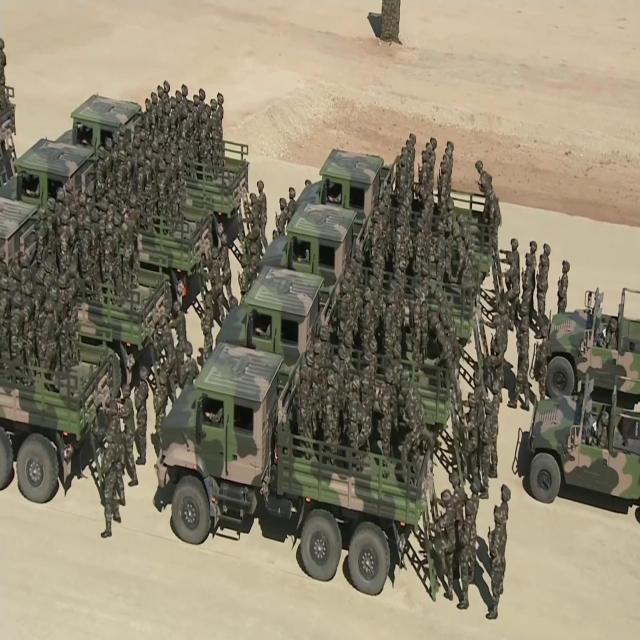Soldier: (428, 308, 458, 415), (120, 383, 145, 483), (98, 422, 119, 540), (483, 507, 503, 622), (515, 300, 535, 409), (438, 488, 457, 602), (398, 377, 417, 483), (135, 360, 154, 460), (68, 264, 86, 366), (458, 499, 474, 611), (118, 205, 136, 289), (361, 346, 374, 456), (345, 373, 361, 461), (490, 376, 504, 474), (554, 256, 576, 316), (196, 288, 213, 363), (434, 282, 458, 334), (465, 389, 477, 492), (41, 299, 56, 381), (358, 284, 376, 352), (10, 289, 24, 376), (380, 365, 392, 466), (298, 360, 310, 461), (480, 398, 492, 498), (156, 368, 170, 452), (23, 278, 34, 384), (207, 248, 223, 320), (407, 280, 421, 362), (324, 367, 337, 453), (489, 313, 504, 387), (454, 223, 470, 290), (58, 274, 69, 371), (535, 327, 549, 403), (385, 290, 400, 360), (487, 181, 502, 249), (30, 283, 42, 368), (256, 176, 270, 248), (154, 312, 173, 365), (476, 153, 490, 217), (338, 279, 352, 343), (221, 232, 235, 293), (538, 254, 549, 329), (145, 144, 155, 226), (435, 217, 447, 284), (505, 251, 519, 306), (171, 295, 187, 343), (592, 409, 611, 448), (104, 220, 116, 281), (180, 340, 198, 380), (80, 215, 92, 273), (244, 190, 260, 232), (522, 252, 535, 303), (67, 214, 80, 264), (156, 160, 168, 213), (239, 249, 249, 306), (106, 392, 120, 432), (418, 150, 431, 193), (604, 313, 620, 347), (57, 231, 70, 272), (275, 192, 286, 240), (246, 237, 258, 281), (43, 251, 55, 294), (217, 90, 228, 134), (445, 470, 463, 496), (35, 205, 47, 243), (497, 482, 515, 507), (199, 108, 208, 158), (46, 196, 56, 238), (334, 341, 346, 375), (469, 472, 483, 499), (54, 187, 64, 222), (288, 179, 297, 217), (302, 344, 316, 366), (210, 96, 219, 127), (108, 185, 116, 218), (79, 192, 89, 218), (527, 236, 539, 255), (98, 195, 107, 220), (168, 93, 178, 113), (181, 80, 191, 100), (180, 118, 190, 137), (60, 206, 69, 227), (508, 233, 517, 253), (190, 90, 199, 110), (156, 84, 166, 101), (542, 240, 552, 254), (142, 97, 152, 111), (198, 85, 206, 102), (151, 90, 159, 104), (163, 77, 170, 93), (162, 102, 170, 115), (181, 107, 189, 119), (173, 89, 180, 102)
